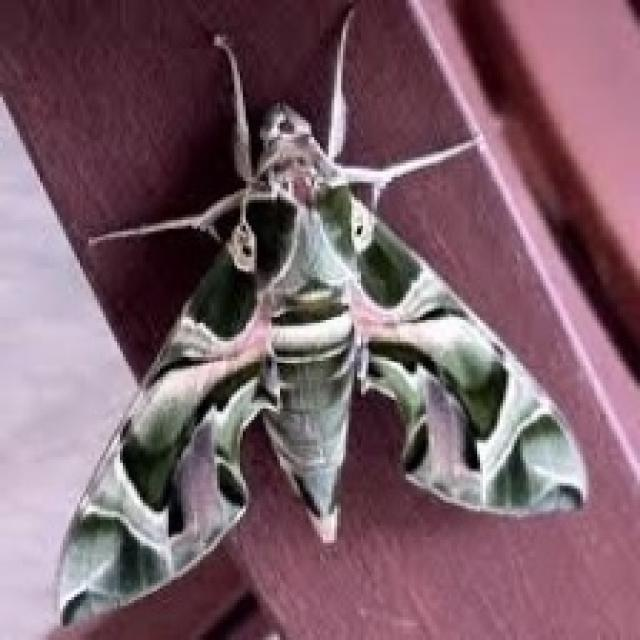butterfly: (51, 3, 586, 628)
